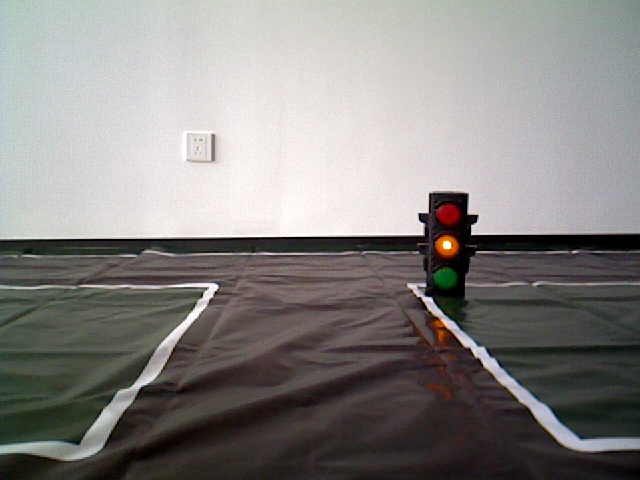yellow: (427, 190, 468, 298)
